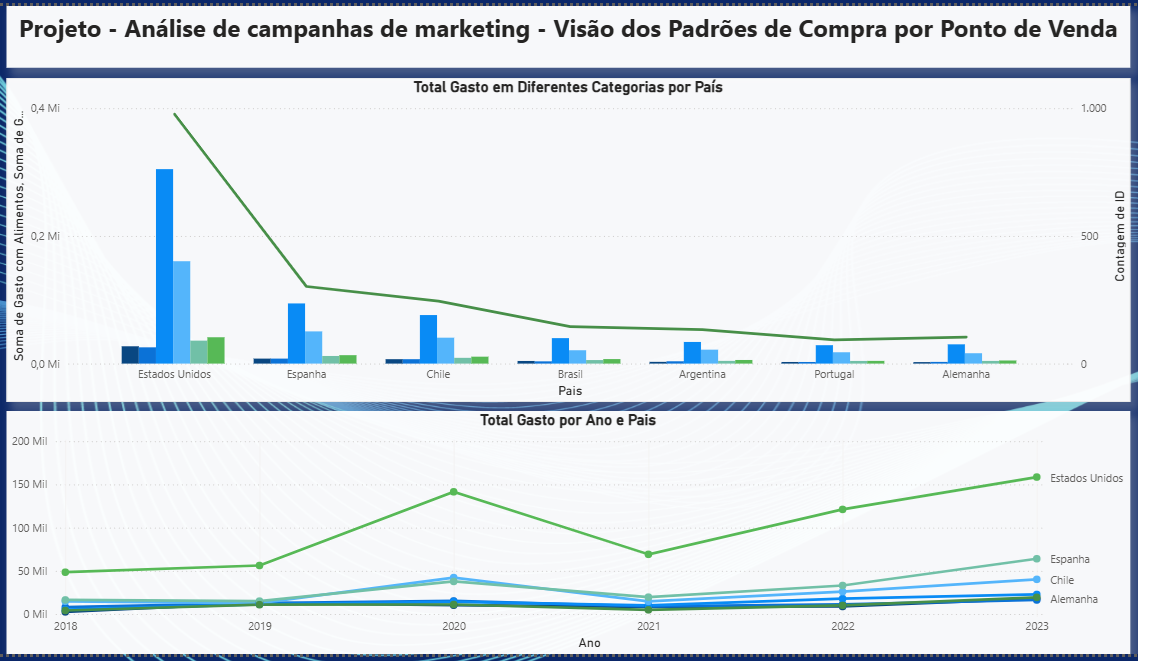

This screenshot's page, from the dashboard's own definition file:
{"tool":"powerbi","page":{"name":"Visão Pontos de Vendas","canvas":[1280,720],"ordinal":3},"visuals":[{"type":"textbox","box":[18.3,0,1248.3,68.3],"z":0},{"type":"lineClusteredColumnComboChart","title":"Total Gasto em Diferentes Categorias por País","fields":{"Category":["DadosMarketing.Pais"],"Y":["Sum(DadosMarketing.Gasto com Alimentos)","Sum(DadosMarketing.Gasto com Brinquedos)","Sum(DadosMarketing.Gasto com Eletronicos)","Sum(DadosMarketing.Gasto com Moveis)","Sum(DadosMarketing.Gasto com Utilidades)","Sum(DadosMarketing.Gasto com Vestuario)"],"Y2":["CountNonNull(DadosMarketing.ID)"]},"box":[18.3,80,1248.3,360],"z":1},{"type":"lineChart","fields":{"Category":["DadosMarketing.Data Cadastro.Variation.Hierarquia de datas.Ano"],"Y":["DadosMarketing.Total Gasto"],"Series":["DadosMarketing.Pais"]},"box":[18,450,1248,270],"z":2}]}

Visuals, with their boxes in screenshot pixels (x1, y1, x2, y2), scaled from the page's 1280x720 canvas onto the 1152x661 screenshot:
textbox: bbox=[16, 0, 1140, 63]
"Total Gasto em Diferentes Categorias por País" lineClusteredColumnComboChart: bbox=[16, 73, 1140, 404]
lineChart - DadosMarketing.Data Cadastro.Variation.Hierarquia de datas.Ano x DadosMarketing.Total Gasto: bbox=[16, 413, 1139, 660]
